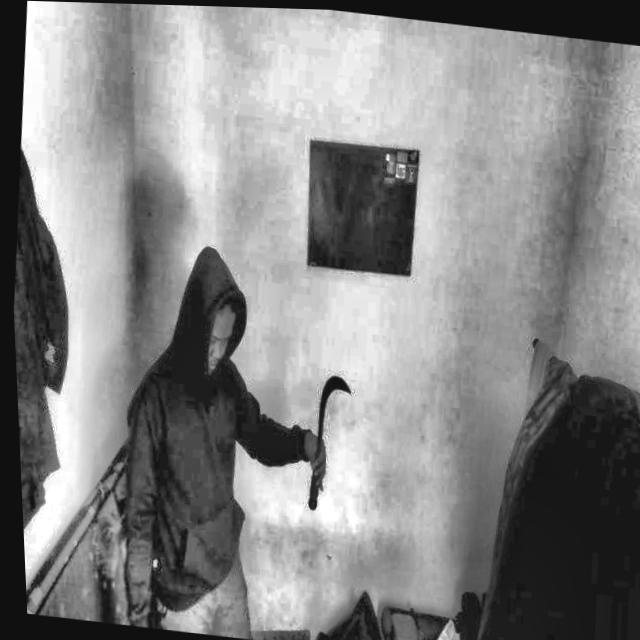celurit: (303, 368, 357, 512)
robbery: (101, 247, 362, 639)
